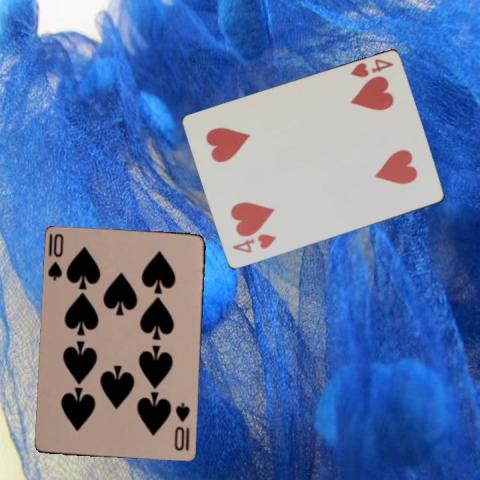10s: (46, 230, 66, 283), (172, 400, 192, 452)
4h: (229, 232, 278, 255), (347, 56, 396, 79)
